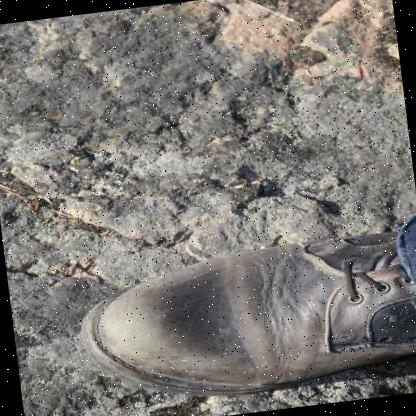bota: (69, 221, 416, 416)
